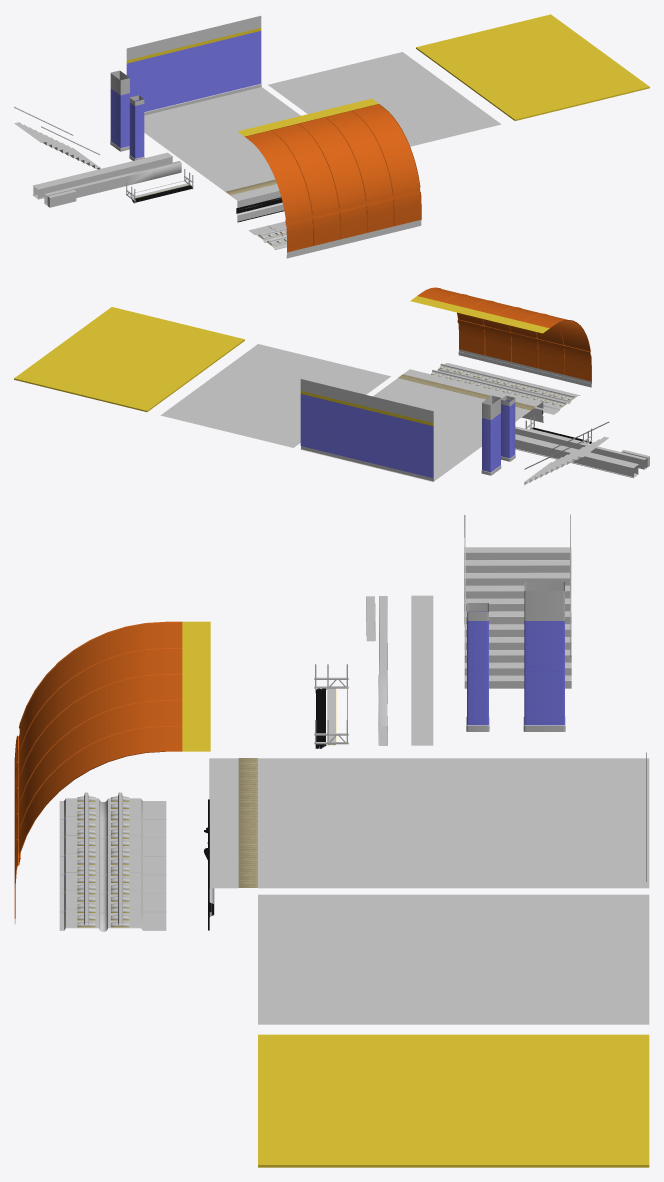
Rendered from BaseAssets_Modular.FBX.
3 renders of one model, top to bottom at view 1: azimuth 30°, elevation 25°; view 2: azimuth 150°, elevation 25°; view 3: azimuth 270°, elevation 25°, orthographic. The views are drawn at different scales.
Visible parts, largest first — view 1: Cylinder014, Plane003, Plane001, Plane002, Box003, Box004, Box002, Box005, Box001, StraightStair001, Box022, Cylinder016 (+1 smaller); view 2: Plane003, Plane002, Box003, Cylinder014, Plane001, Cylinder016, Box004, Box002, Box005, Box001, StraightStair001, Box022; view 3: Plane001, Plane003, Plane002, Cylinder014, Cylinder016, StraightStair001, Box002, Box004, Box001, Box022, Box005.
Part boxes in pixels (x1=…): Cylinder014: x1=237, y1=98, x2=421, y2=258; Plane003: x1=416, y1=14, x2=649, y2=120; Plane001: x1=144, y1=87, x2=300, y2=222; Plane002: x1=268, y1=52, x2=501, y2=146; Box003: x1=126, y1=16, x2=261, y2=115; Box004: x1=32, y1=152, x2=172, y2=199; Box002: x1=110, y1=70, x2=129, y2=151; Box005: x1=44, y1=161, x2=181, y2=205; Box001: x1=129, y1=95, x2=144, y2=160; StraightStair001: x1=14, y1=106, x2=100, y2=169; Box022: x1=126, y1=169, x2=193, y2=203; Cylinder016: x1=249, y1=221, x2=286, y2=249; Plane003: x1=14, y1=307, x2=244, y2=411; Plane002: x1=160, y1=344, x2=390, y2=447; Box003: x1=300, y1=379, x2=433, y2=481; Cylinder014: x1=410, y1=287, x2=591, y2=387; Plane001: x1=300, y1=369, x2=543, y2=481; Cylinder016: x1=431, y1=363, x2=580, y2=414; Box004: x1=515, y1=434, x2=638, y2=478; Box002: x1=481, y1=395, x2=501, y2=475; Box005: x1=515, y1=426, x2=646, y2=469; Box001: x1=501, y1=395, x2=515, y2=461; StraightStair001: x1=524, y1=421, x2=609, y2=485; Box022: x1=525, y1=414, x2=592, y2=443; Plane001: x1=204, y1=758, x2=649, y2=930; Plane003: x1=258, y1=1034, x2=649, y2=1167; Plane002: x1=258, y1=894, x2=649, y2=1024; Cylinder014: x1=14, y1=621, x2=210, y2=924; Cylinder016: x1=59, y1=792, x2=166, y2=931; StraightStair001: x1=464, y1=514, x2=571, y2=688; Box002: x1=523, y1=581, x2=565, y2=731; Box004: x1=411, y1=595, x2=433, y2=745; Box001: x1=466, y1=603, x2=489, y2=731; Box022: x1=314, y1=664, x2=348, y2=748; Box005: x1=378, y1=596, x2=387, y2=745.
Bounding box in the file's own units: 297 × 46.5 × 144.
